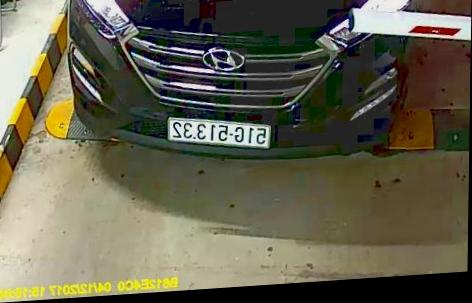License_Plate: (168, 114, 272, 152)
